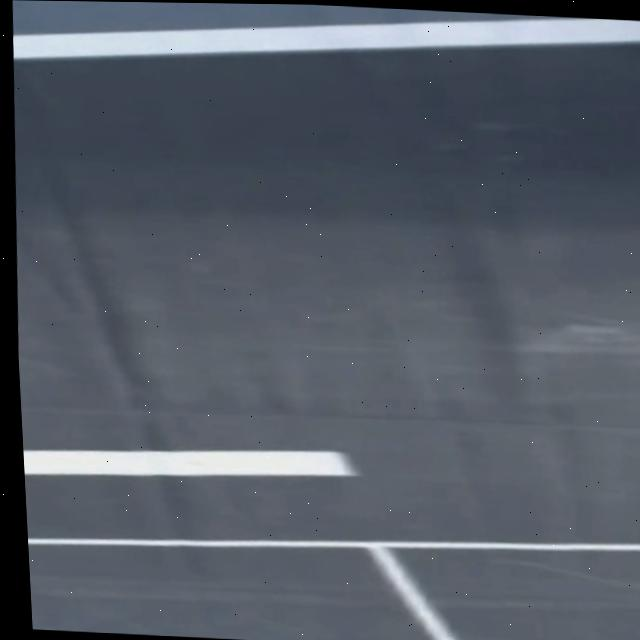center: (23, 449, 355, 475)
left: (12, 17, 640, 58)
